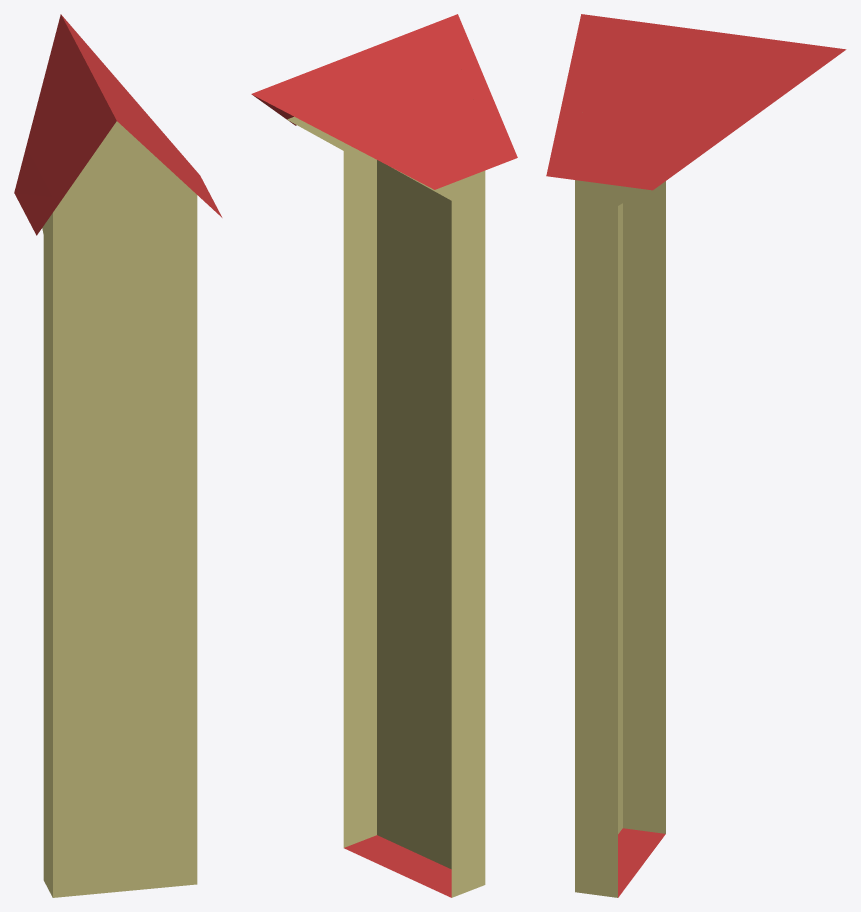
3 views of the same model, side by side, from view 1: azimuth 30°, elevation 25°; view 2: azimuth 150°, elevation 25°; view 3: azimuth 270°, elevation 25° (orthographic). The views are drawn at different scales.
Size of the model in its own units: 2.49 by 3.27 by 10.07.
